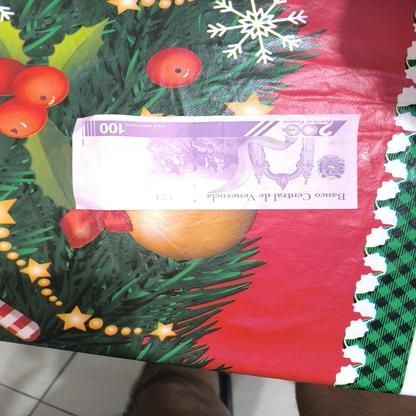one_hundred-back-vef: (72, 113, 361, 210)
